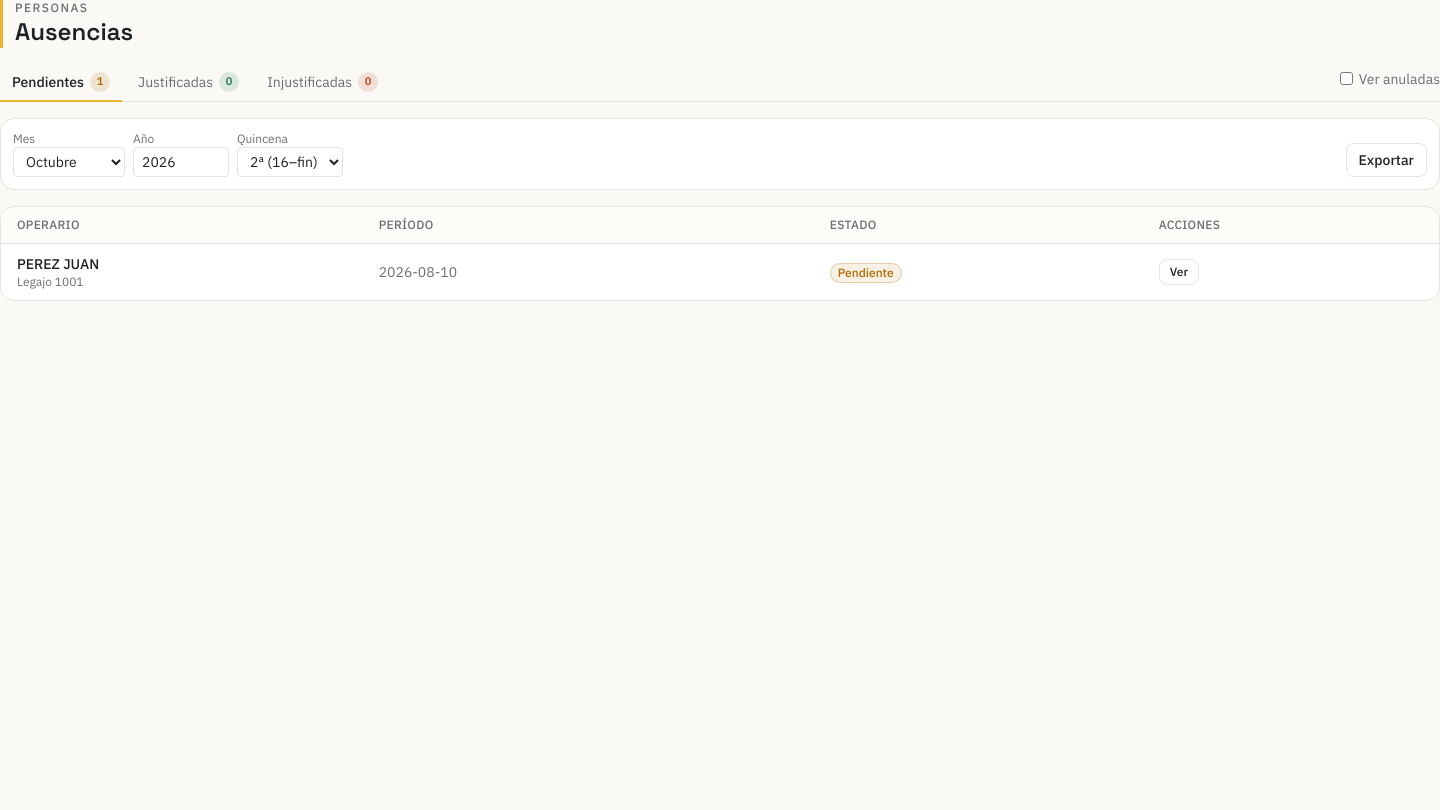
AusenciasPage › usa las etiquetas renombradas de las acciones (Justificar / No justificar)
Click the button "Ver".
click(1179, 272)  # box [1159,259,1199,285]
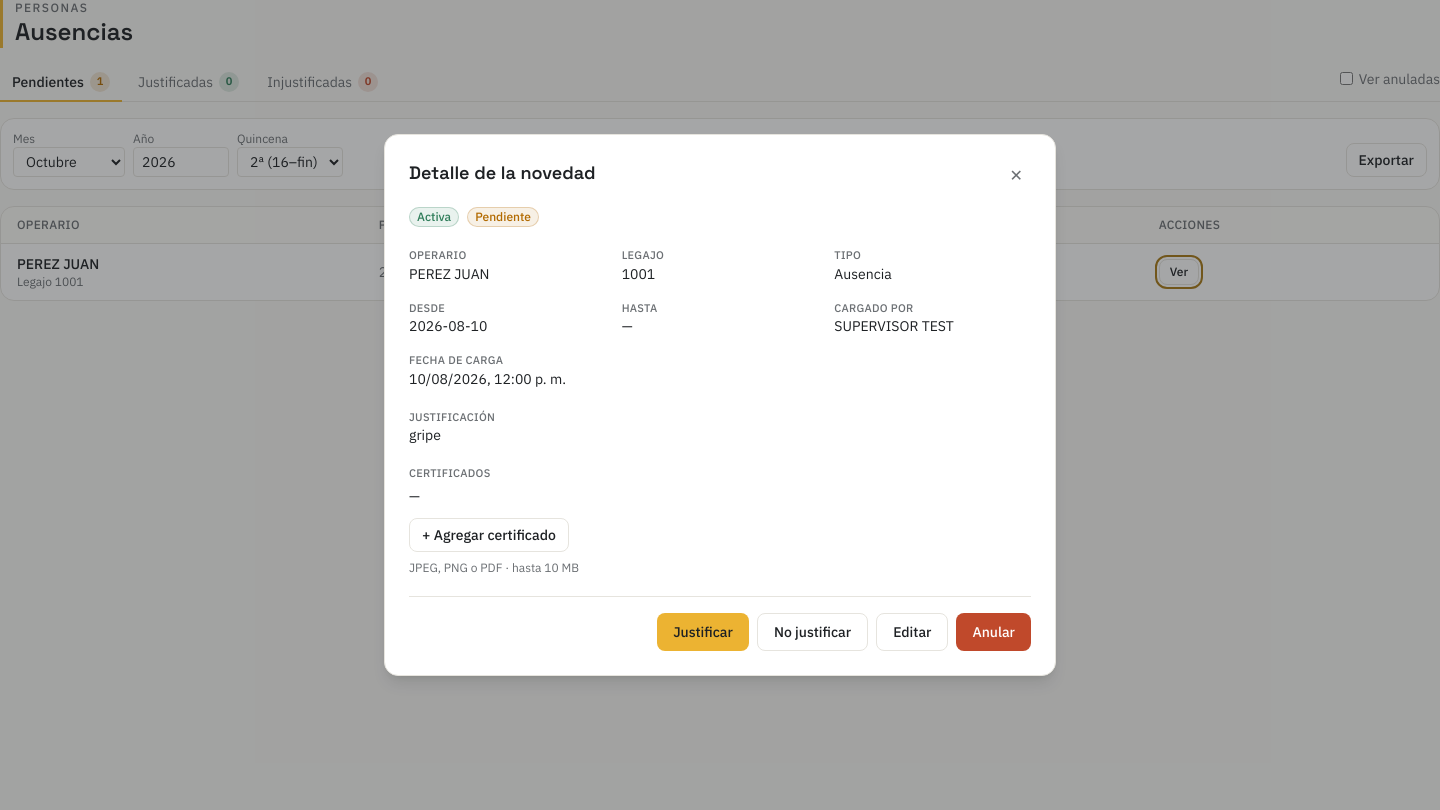
Expected: the button "Justificar" is shown, [657,613,749,651]
Expected: the button "No justificar" is shown, [757,613,868,651]
